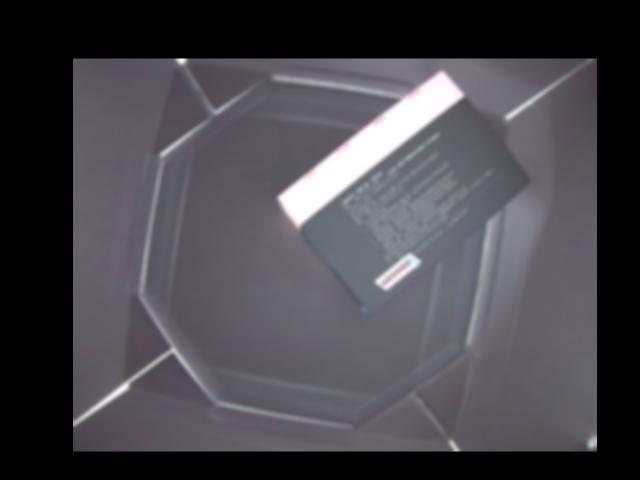Medicine: (276, 70, 529, 313)
